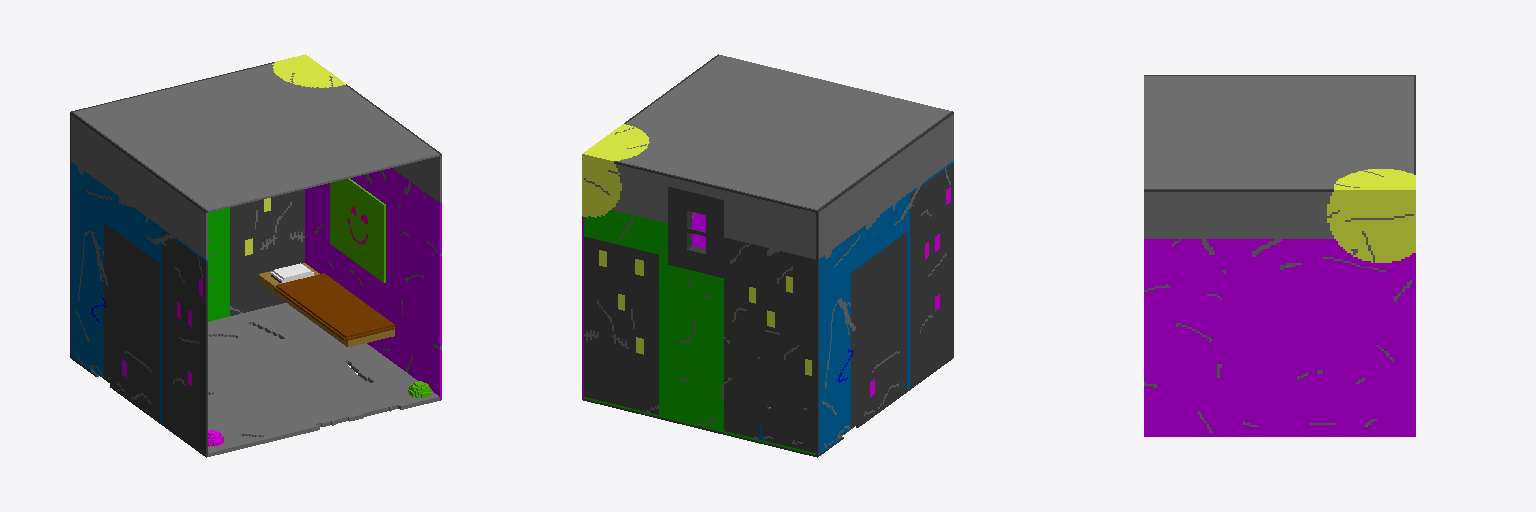
3 renders of one model, left to right at view 1: azimuth 30°, elevation 25°; view 2: azimuth 150°, elevation 25°; view 3: azimuth 270°, elevation 25°, orthographic.
Bounding box in the file's own units: 126 × 126 × 126.
1 materials, 1 textured.